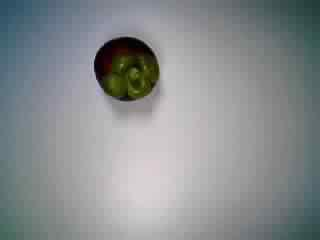mangosteen: (84, 32, 162, 108)
